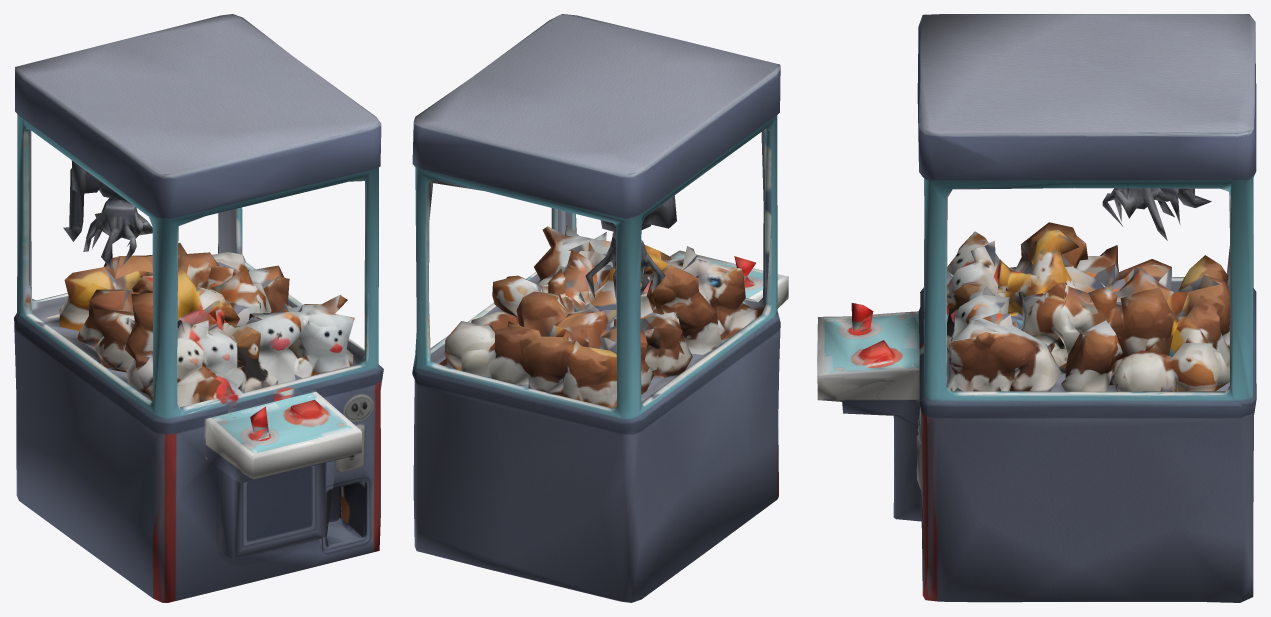
Rendered from Claw Machine Default.fbx.
3 views of the same model, side by side, from view 1: azimuth 30°, elevation 25°; view 2: azimuth 150°, elevation 25°; view 3: azimuth 270°, elevation 25° (orthographic). The views are drawn at different scales.
Visible parts, largest first — view 1: material_0; view 2: material_0; view 3: material_0.
Part boxes in pixels (x1=…): material_0: x1=14, y1=14, x2=383, y2=602; material_0: x1=412, y1=14, x2=788, y2=602; material_0: x1=817, y1=14, x2=1256, y2=602.
Size of the model in its own units: 55.39 by 100 by 84.5.
Materials: 1 (1 with a texture image).
